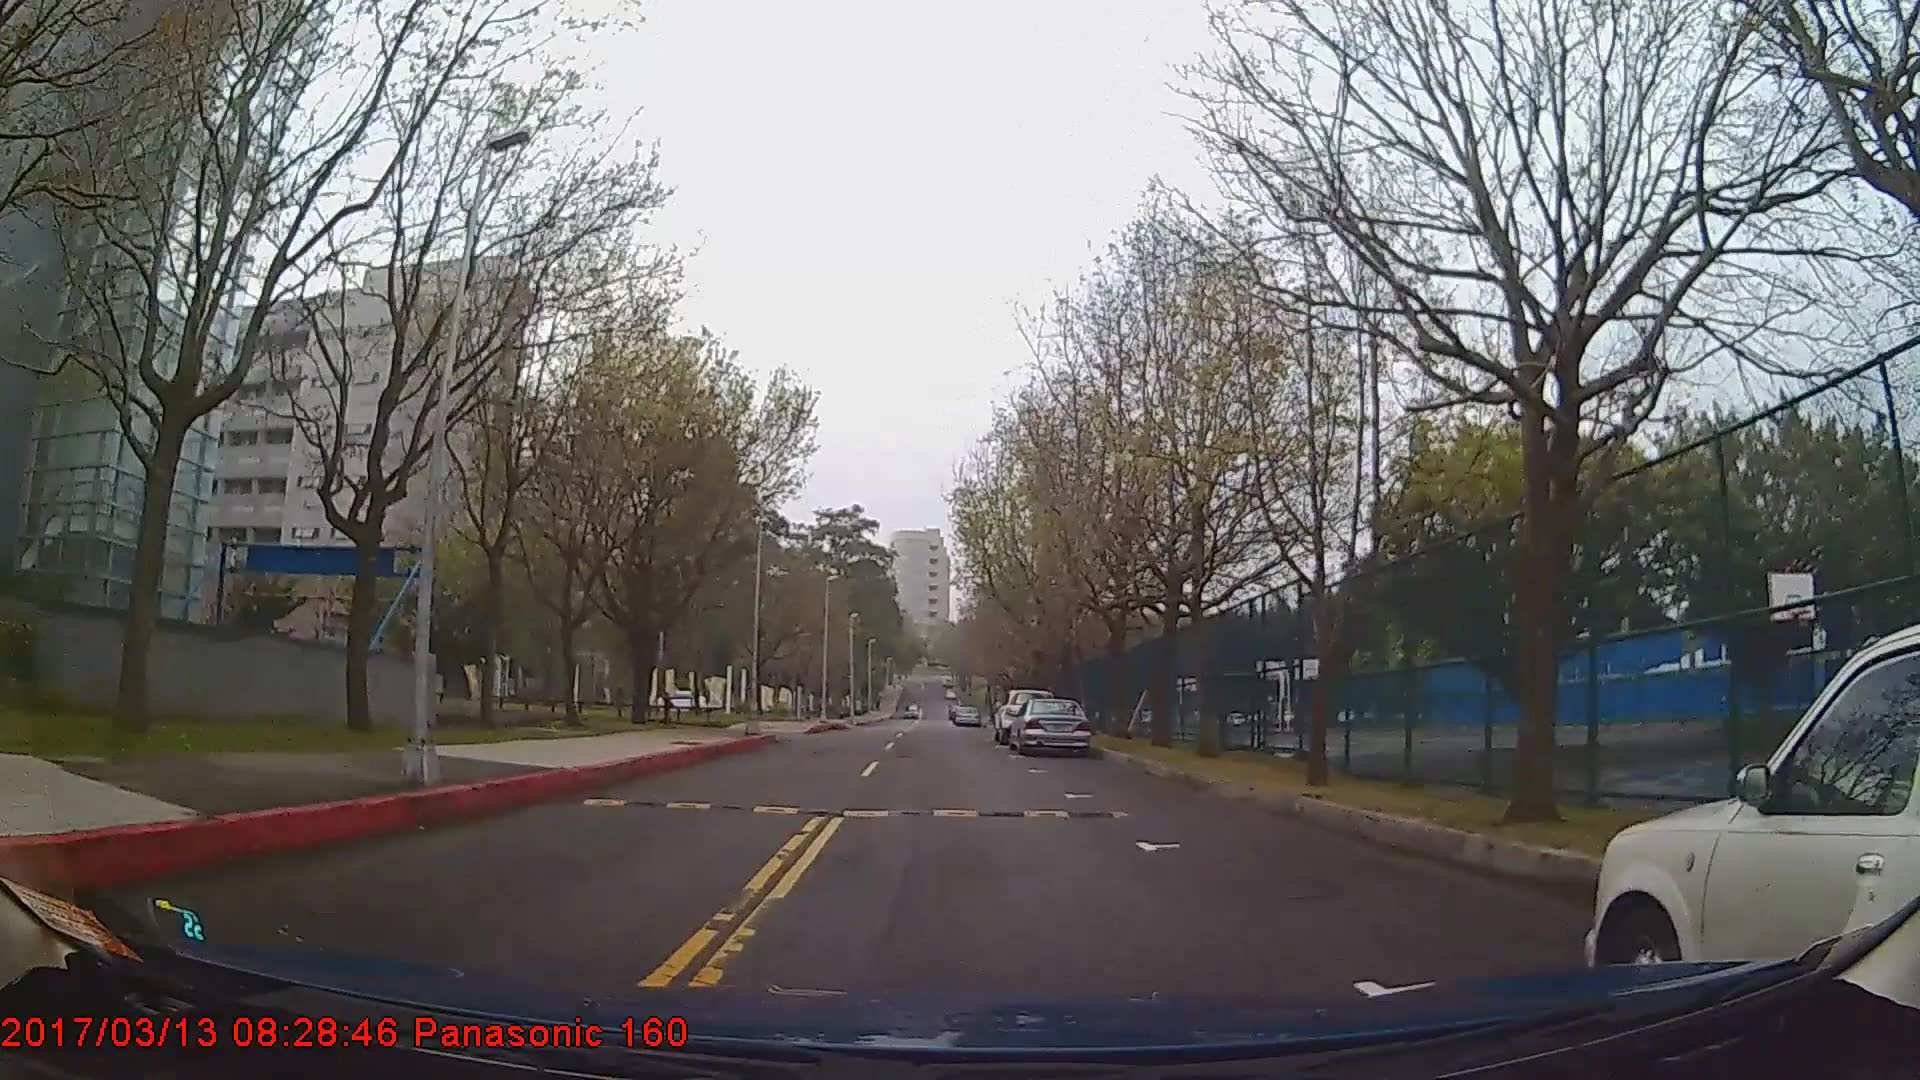vehicle: (1589, 626, 1917, 1007), (1006, 694, 1091, 753), (949, 703, 984, 729)
